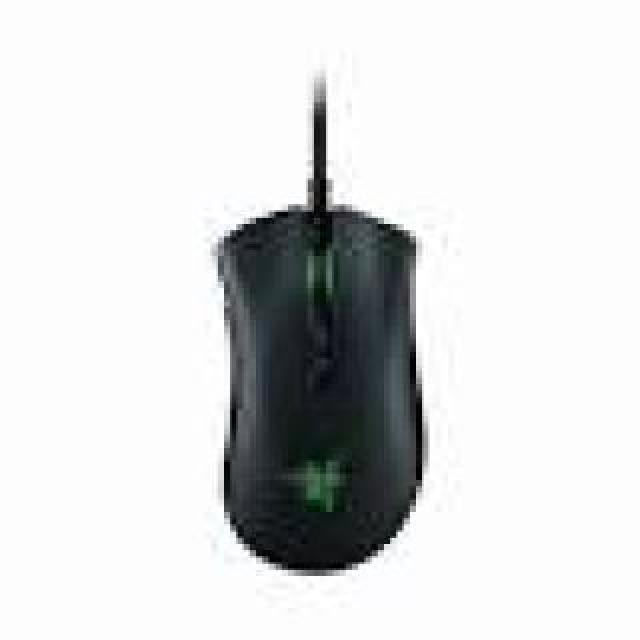mouse: (200, 55, 537, 613)
